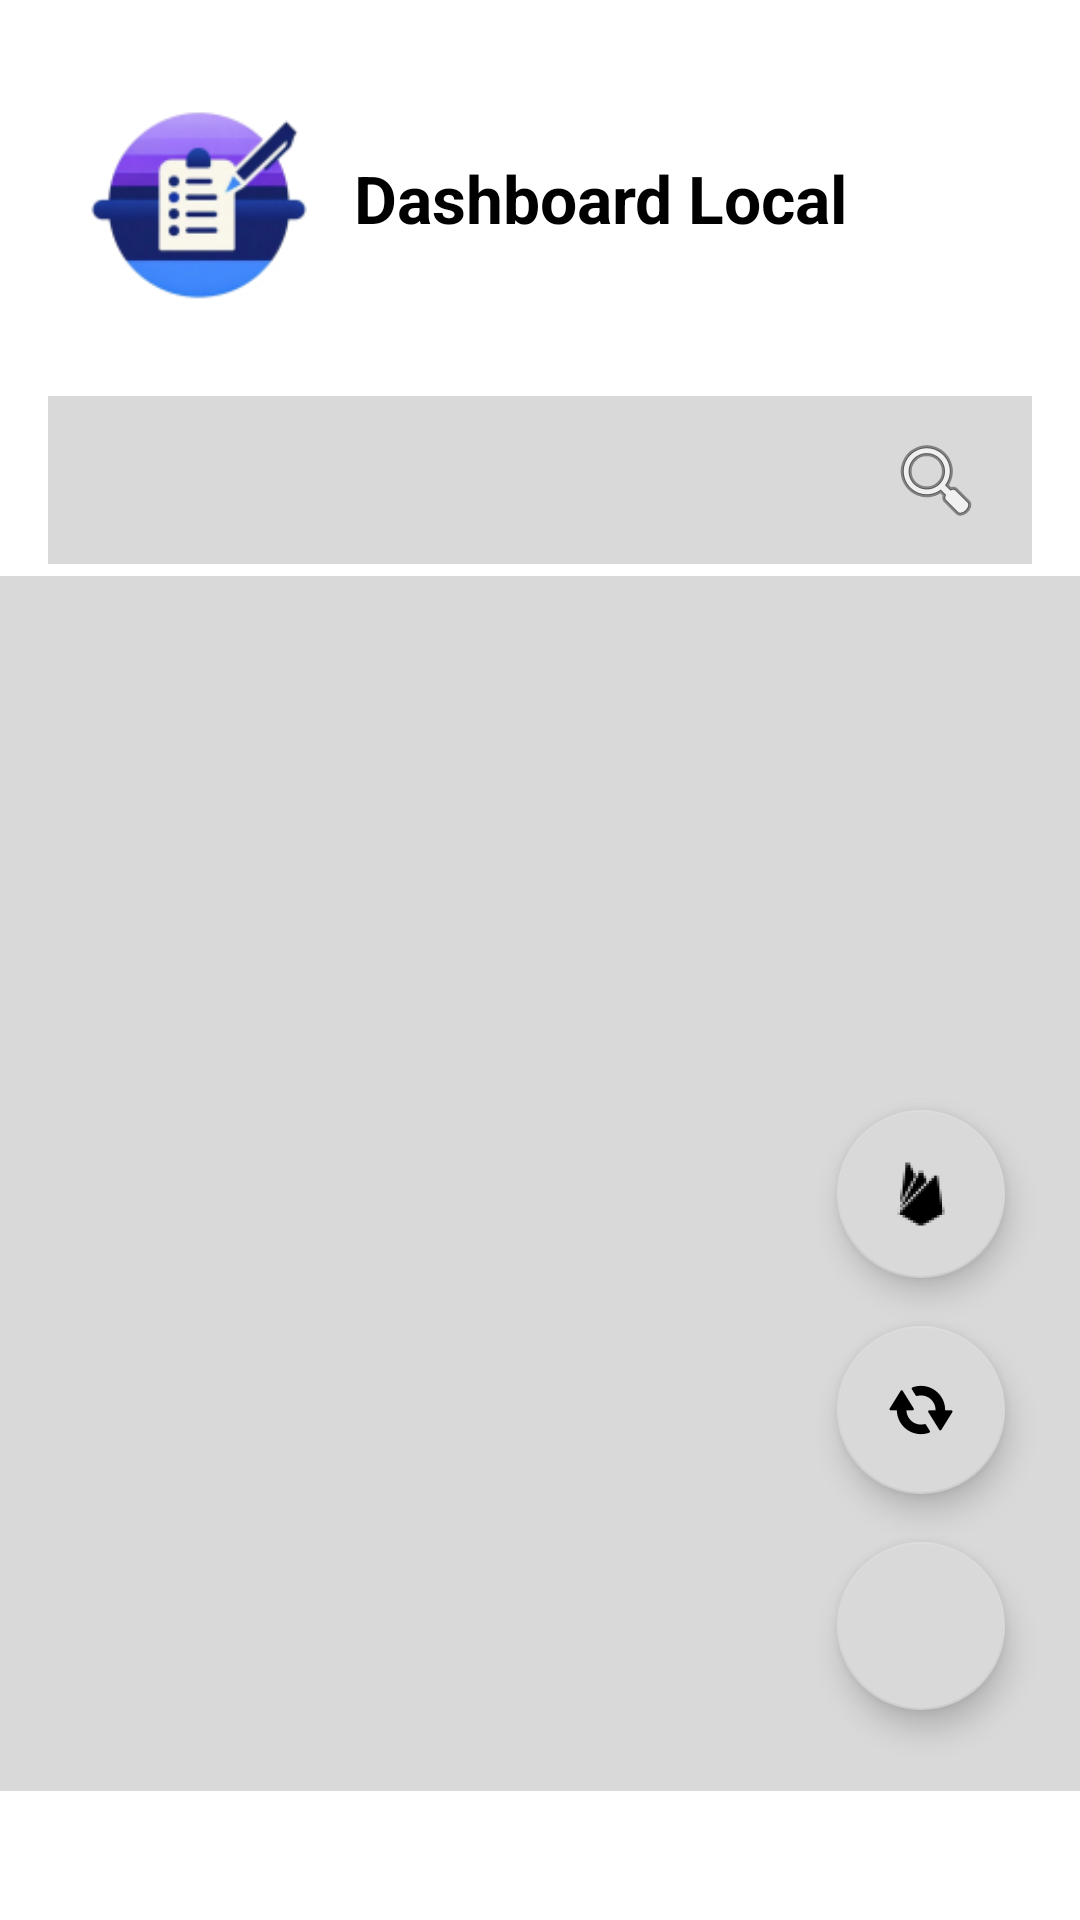

Where icons sit on this 1080w x 1920h app screen, as [x1,y1,x2,y2]:
synchronize: [889,1386,1002,1440]
